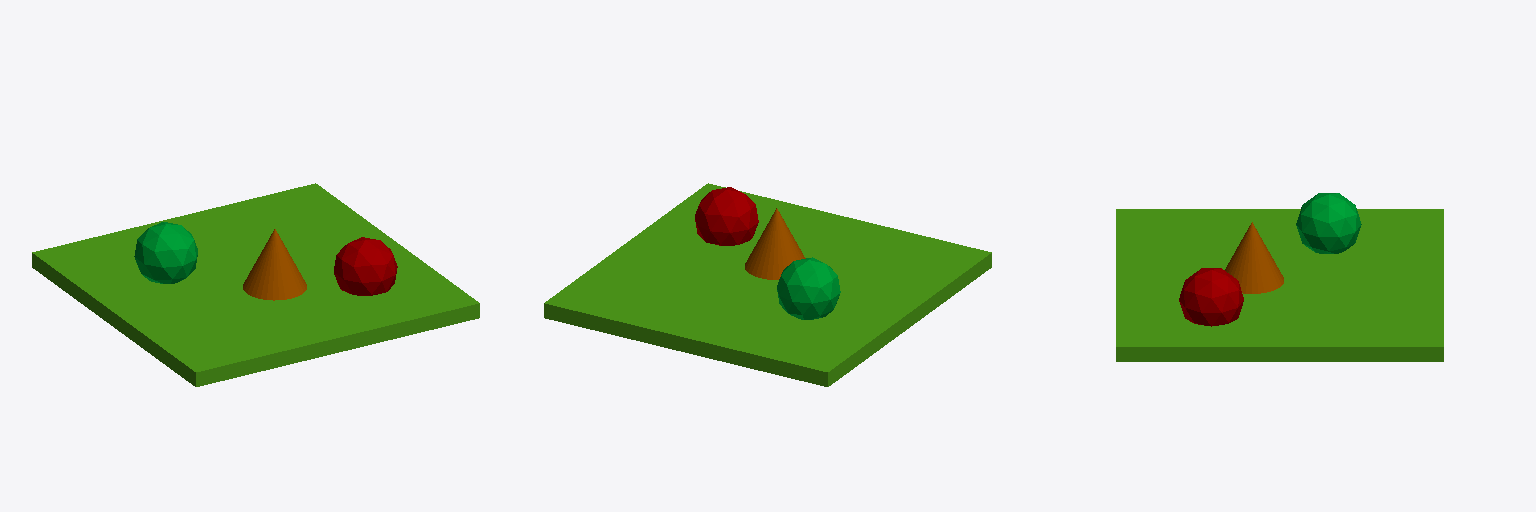
Rendered from loadTest.obj.
The picture shows the model from 3 angles: view 1: azimuth 30°, elevation 25°; view 2: azimuth 150°, elevation 25°; view 3: azimuth 270°, elevation 25°; orthographic projection.
Visible parts, largest first — view 1: Cube, Icosphere, Icosphere.001, Cone; view 2: Cube, Icosphere, Icosphere.001, Cone; view 3: Cube, Icosphere, Icosphere.001, Cone.
Boxes of the visible parts, x1,y1,x2,y2 form: Cube: [32, 183, 479, 386]; Icosphere: [134, 222, 197, 283]; Icosphere.001: [334, 237, 397, 295]; Cone: [243, 229, 306, 300]; Cube: [544, 183, 991, 386]; Icosphere: [777, 257, 840, 319]; Icosphere.001: [695, 187, 758, 245]; Cone: [745, 208, 805, 279]; Cube: [1116, 209, 1443, 361]; Icosphere: [1296, 193, 1361, 253]; Icosphere.001: [1179, 268, 1243, 326]; Cone: [1225, 222, 1283, 293].
Bounding box in the file's own units: 10 × 2.47 × 10.